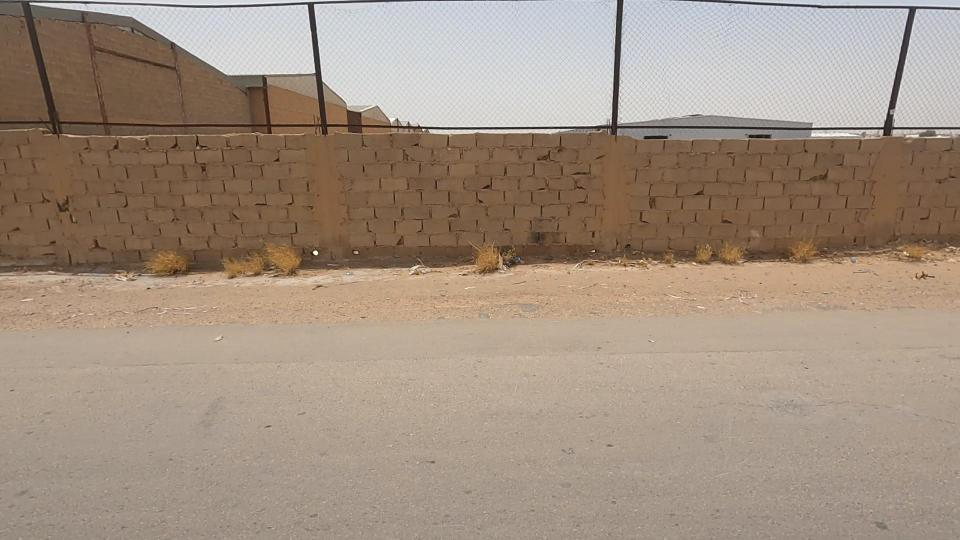GARBAGE: (370, 242, 483, 302)
